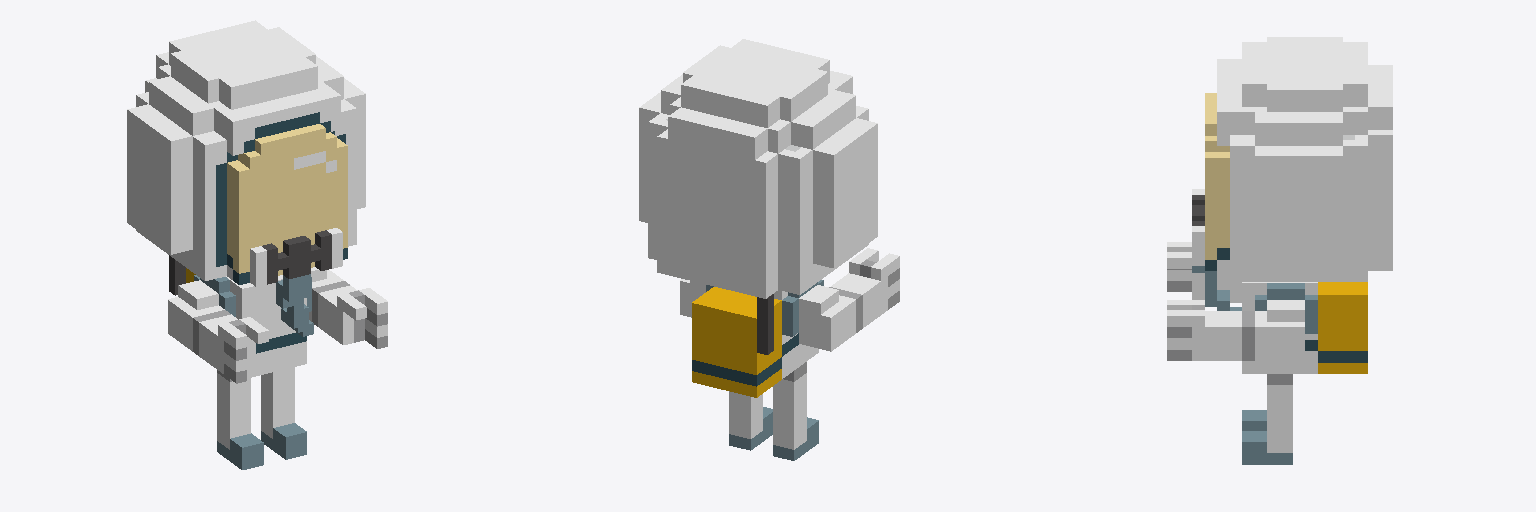
The picture shows the model from 3 angles: view 1: azimuth 30°, elevation 25°; view 2: azimuth 150°, elevation 25°; view 3: azimuth 270°, elevation 25°; orthographic projection.
Visible parts, largest first — view 1: object 1; view 2: object 1; view 3: object 1.
Part boxes in pixels (left/top/right/bottom): object 1: left=127, top=20, right=387, bottom=469; object 1: left=639, top=39, right=899, bottom=460; object 1: left=1167, top=37, right=1392, bottom=464.
Bounding box in the file's own units: 1.8 × 3.4 × 1.8.
1 materials, 1 textured.